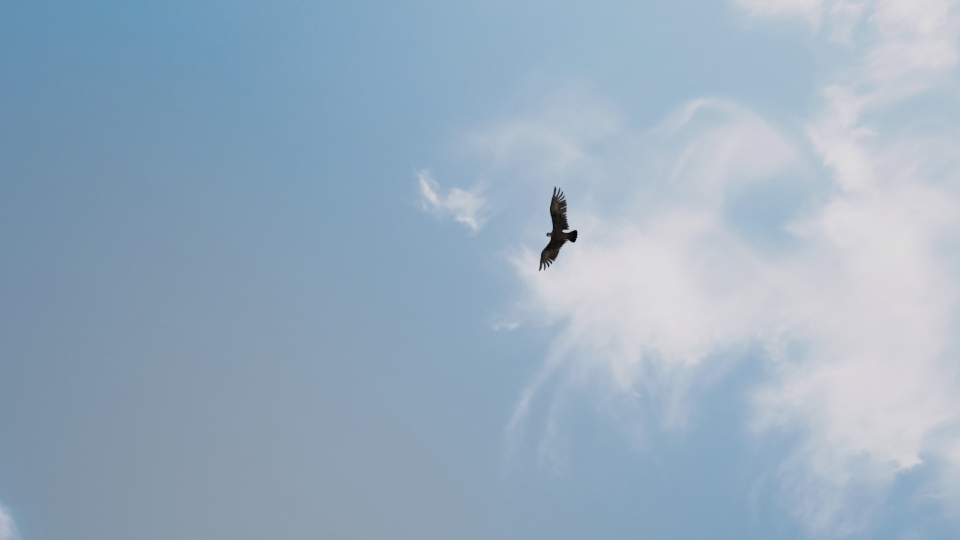bird: (537, 183, 578, 268)
